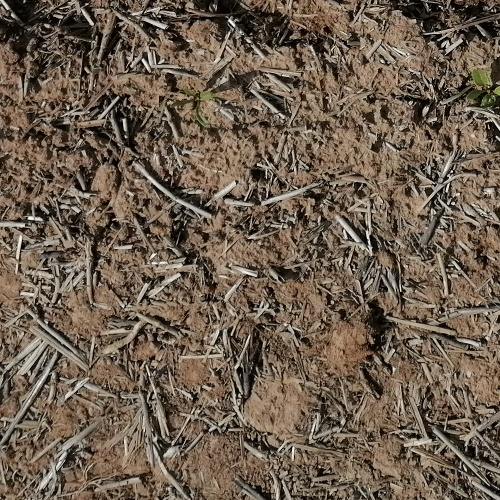beet: (169, 86, 212, 129), (464, 67, 500, 113)
